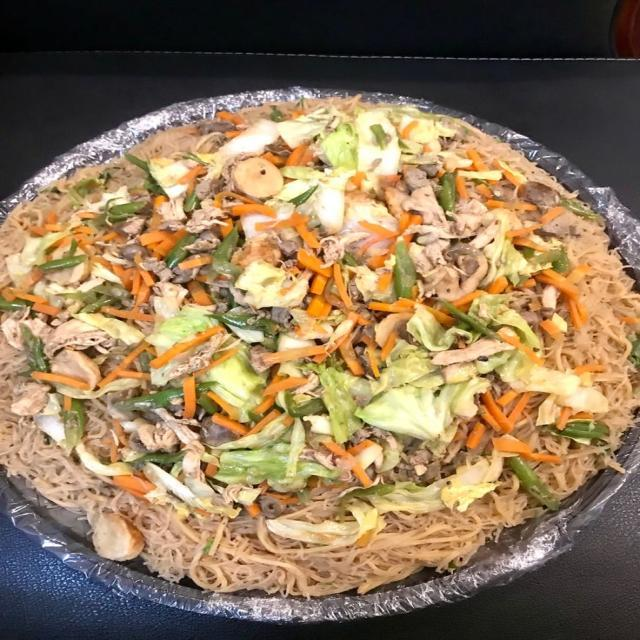pancit bihon: (11, 91, 640, 616)
